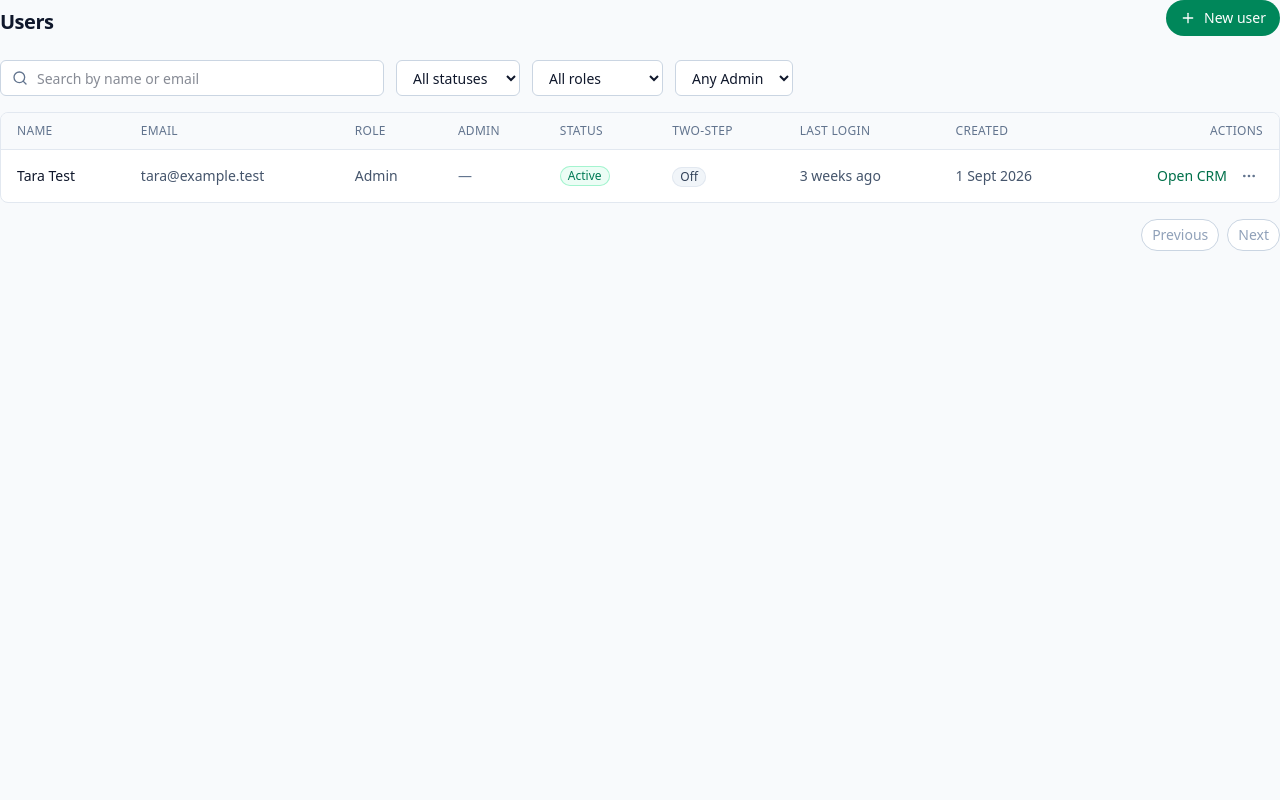
Test: the details panel › offers an Admin's owner a reset link only, and says what is not available for them
Click the button "Tara Test" at (46, 176), box left=17, top=166, right=75, bottom=186
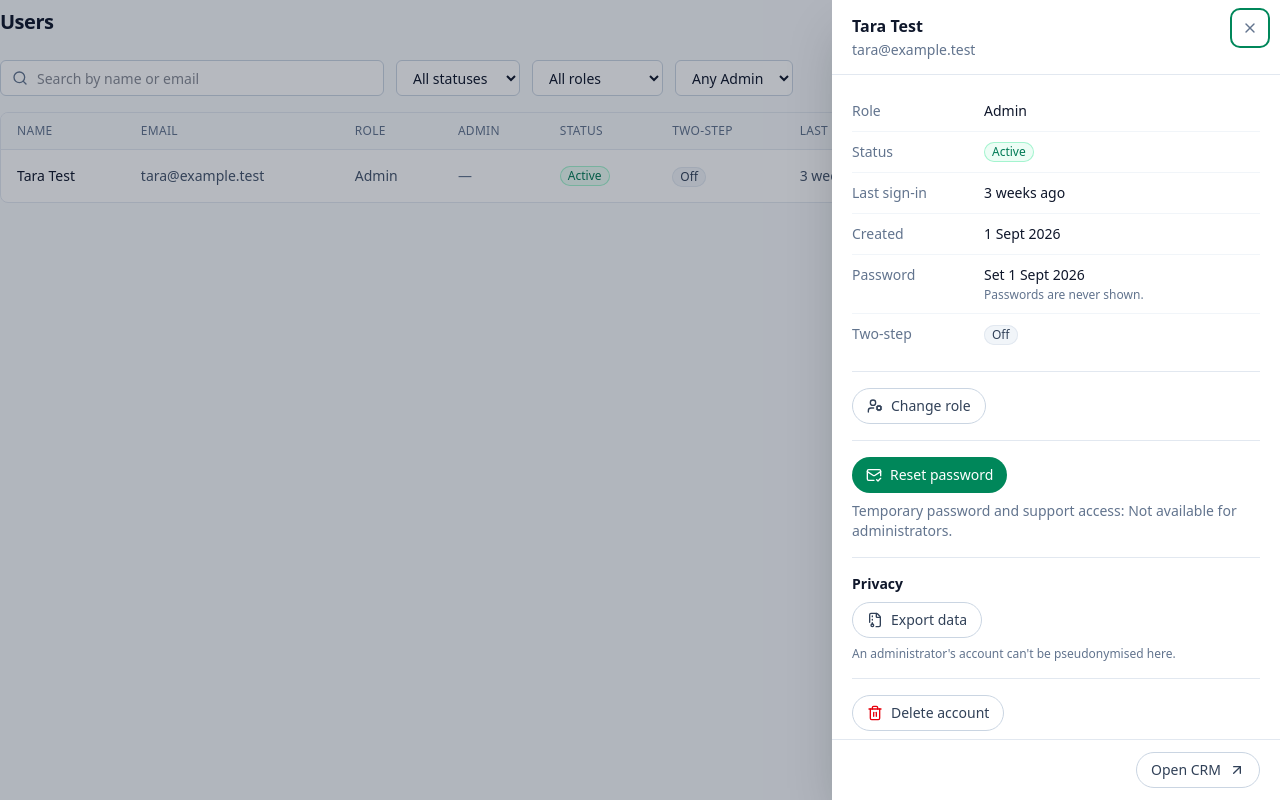
Expected: the dialog "Tara Test" does not show "Reset password: Not available", left=832, top=0, right=1279, bottom=799
Expected: the button "Reset password" is shown, left=852, top=457, right=1007, bottom=493
Expected: the dialog "Tara Test" shows "Temporary password and support access: Not available for administrators.", left=852, top=501, right=1237, bottom=540
